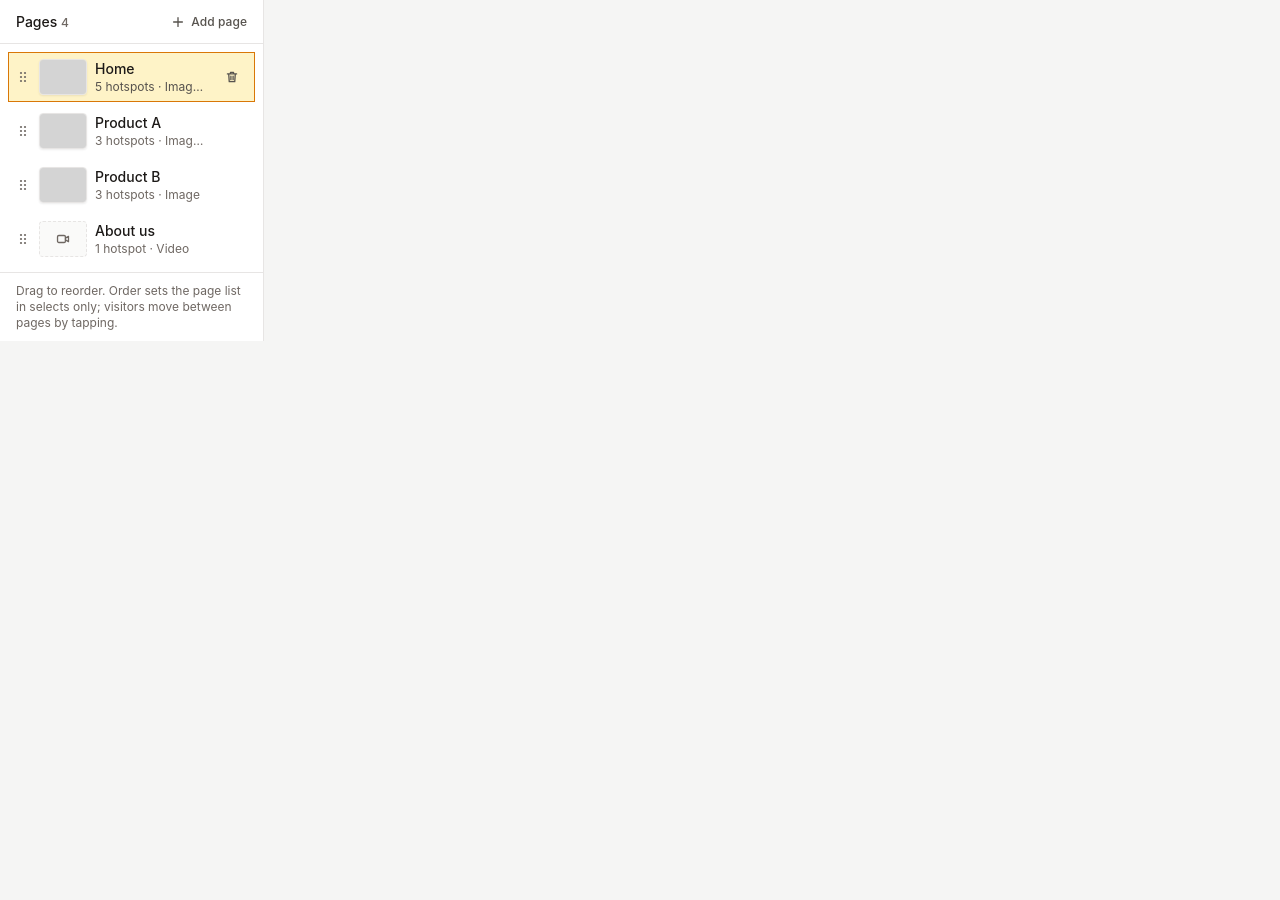
Test case: PageList (spec PG-1) › deleting › asks first, naming what changes, with the focus on Cancel
The image size is (1280, 900).
Click the button named "Delete page Home".
click(232, 77)  # box [218,63,246,91]
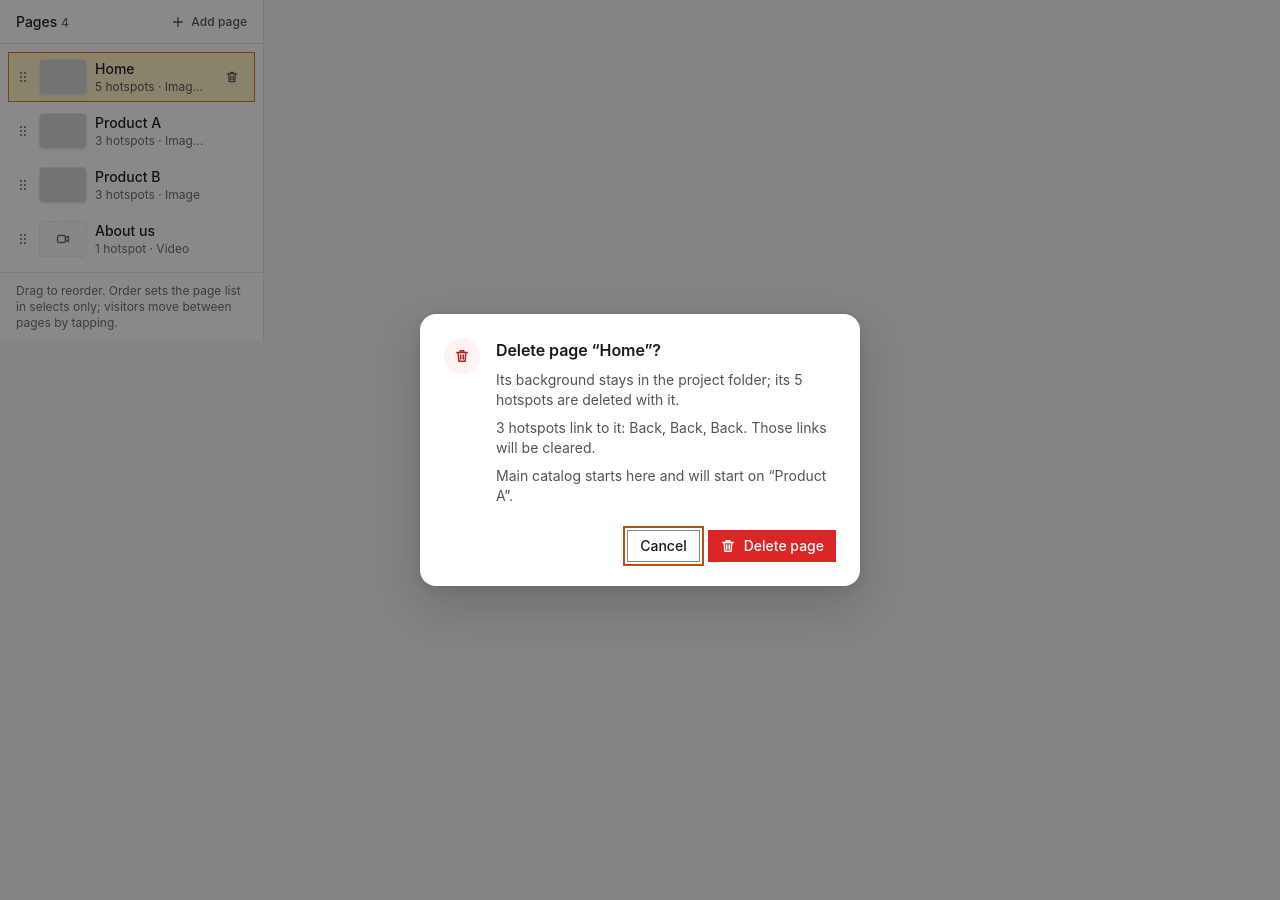
Now the dialog "Delete page “Home”?" shows "Main catalog starts here and will start on “Product A”.", box [420,314,860,586]
